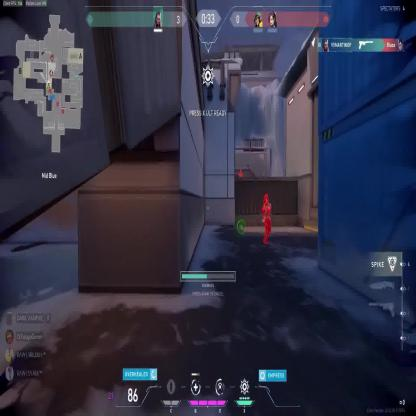enemy: (260, 194, 272, 245), (238, 169, 243, 184)
enemy_head: (263, 194, 270, 204), (239, 169, 242, 173)
